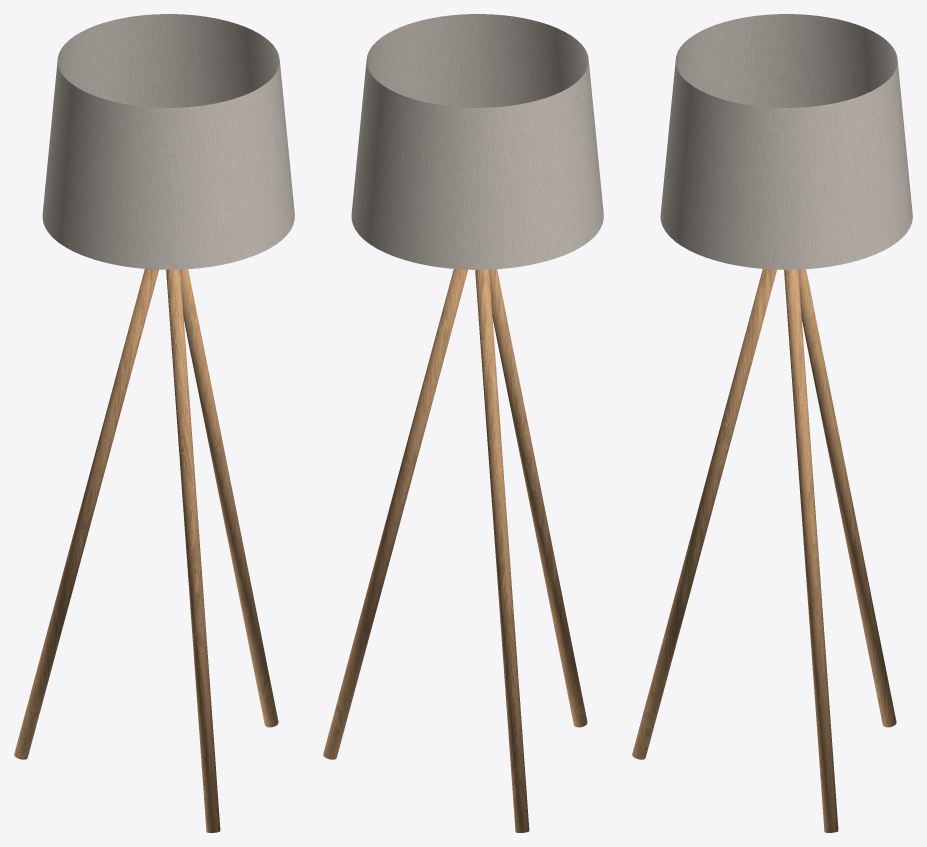
File: lamp-tripod.glb
3 renders of one model, left to right at view 1: azimuth 30°, elevation 25°; view 2: azimuth 150°, elevation 25°; view 3: azimuth 270°, elevation 25°, orthographic.
Parts seen in each view (by area): view 1: shade, leg.002, leg.001, leg; view 2: shade, leg.001, leg, leg.002; view 3: shade, leg, leg.002, leg.001.
Part boxes in pixels (x1,y1,x2,y2): shade: (42, 14, 294, 269); leg.002: (166, 269, 220, 832); leg.001: (14, 269, 158, 759); leg: (180, 269, 278, 727); shade: (351, 14, 603, 269); leg.001: (475, 269, 529, 832); leg: (323, 269, 467, 759); leg.002: (489, 269, 587, 727); shade: (660, 14, 912, 269); leg: (784, 269, 838, 832); leg.002: (632, 269, 776, 759); leg.001: (798, 269, 896, 727).
Bounding box in the file's own units: 0.5502 × 1.55 × 0.5562.
Materials: 3 (2 with a texture image).
